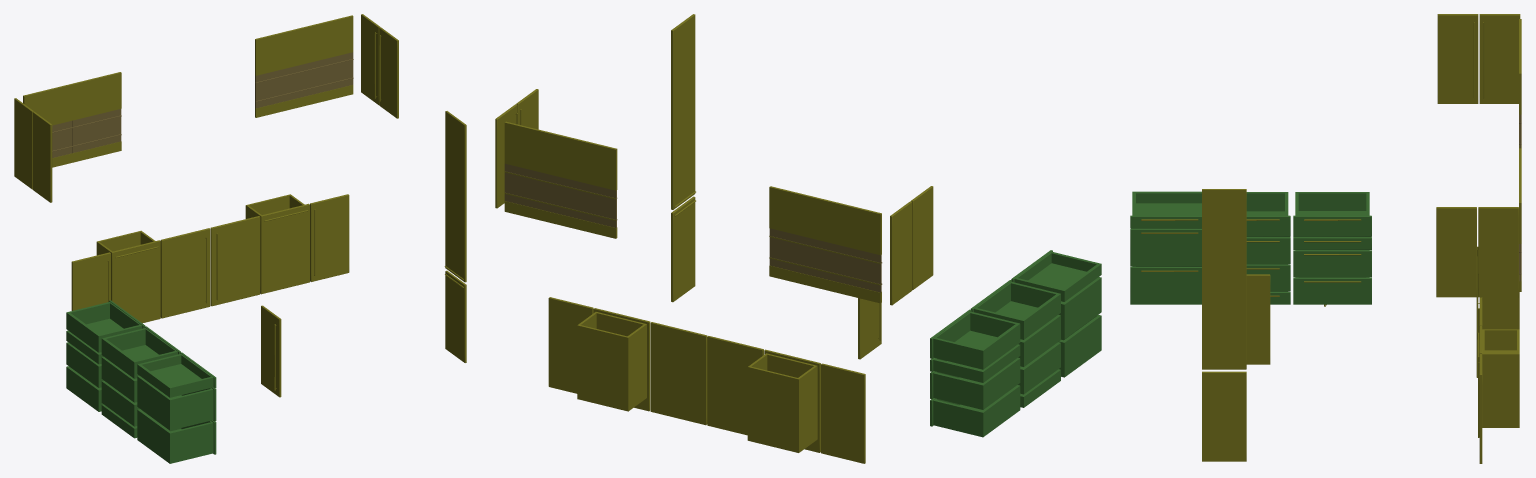
File: FloorPlan2.fbx
The picture shows the model from 3 angles, left to right: view 1: azimuth 30°, elevation 25°; view 2: azimuth 150°, elevation 25°; view 3: azimuth 270°, elevation 25°; orthographic projection. The views are drawn at different scales.
Visible parts, largest first — view 1: Drawer (3), Drawer (4), CabinetDoorBase1, CabinetDoorBase1 (11), CabinetDoorBase1 (2), CabinetDoorBase1 (10) (2), CabinetDoorBase1 (10), Drawer (2), CabinetDoorBase1 (6), DrawerBase2 (2), DrawerBase2, CabinetDoorBase1 (9) (+14 smaller); view 2: Drawer (3), Drawer (4), CabinetDoorBase1 (2), CabinetDoorBase1 (11), CabinetDoorBase1 (9), CabinetDoorBase1 (10) (2), CabinetDoorBase1 (10), Drawer (2), CabinetDoorBase1 (5), CabinetDoorBase1, DrawerBase2 (9), CabinetDoorBase1 (6) (+15 smaller); view 3: Drawer (2), Drawer, Drawer (3), CabinetDoorBase1 (7) (3), CabinetDoorBase1 (7) (2) (2), CabinetDoorBase1 (7), CabinetDoorBase1 (7) (2), DrawerBase2 (9), DrawerBase2, DrawerBase2 (2), DrawerBase2 (3), CabinetDoorBase1 (8) (+8 smaller).
Part boxes in pixels (left/top/right/bottom): Drawer (3): left=245, top=194, right=309, bottom=294; Drawer (4): left=96, top=230, right=160, bottom=323; CabinetDoorBase1: left=160, top=228, right=210, bottom=318; CabinetDoorBase1 (11): left=255, top=27, right=304, bottom=117; CabinetDoorBase1 (2): left=210, top=216, right=260, bottom=306; CabinetDoorBase1 (10) (2): left=304, top=15, right=353, bottom=105; CabinetDoorBase1 (10): left=72, top=72, right=121, bottom=162; Drawer (2): left=445, top=111, right=466, bottom=282; CabinetDoorBase1 (6): left=310, top=194, right=349, bottom=281; DrawerBase2 (2): left=137, top=409, right=216, bottom=463; DrawerBase2: left=137, top=376, right=216, bottom=430; CabinetDoorBase1 (9): left=23, top=84, right=72, bottom=167; Drawer (3): left=577, top=308, right=650, bottom=411; Drawer (4): left=747, top=349, right=820, bottom=452; CabinetDoorBase1 (2): left=650, top=322, right=707, bottom=425; CabinetDoorBase1 (11): left=560, top=135, right=617, bottom=238; CabinetDoorBase1 (9): left=825, top=200, right=882, bottom=303; CabinetDoorBase1 (10) (2): left=504, top=121, right=561, bottom=224; CabinetDoorBase1 (10): left=769, top=186, right=825, bottom=289; Drawer (2): left=671, top=14, right=695, bottom=209; CabinetDoorBase1 (5): left=821, top=363, right=865, bottom=463; CabinetDoorBase1: left=707, top=336, right=763, bottom=435; DrawerBase2 (9): left=930, top=309, right=1020, bottom=369; CabinetDoorBase1 (6): left=548, top=297, right=593, bottom=393; Drawer (2): left=1202, top=189, right=1246, bottom=369; Drawer: left=1202, top=371, right=1246, bottom=461; Drawer (3): left=1479, top=325, right=1519, bottom=427; CabinetDoorBase1 (7) (3): left=1436, top=207, right=1476, bottom=297; CabinetDoorBase1 (7) (2) (2): left=1478, top=207, right=1518, bottom=297; CabinetDoorBase1 (7): left=1437, top=14, right=1478, bottom=103; CabinetDoorBase1 (7) (2): left=1479, top=14, right=1520, bottom=103; DrawerBase2 (9): left=1293, top=192, right=1371, bottom=236; DrawerBase2: left=1130, top=228, right=1201, bottom=266; DrawerBase2 (2): left=1130, top=266, right=1201, bottom=304; DrawerBase2 (3): left=1130, top=191, right=1201, bottom=228; CabinetDoorBase1 (8): left=1246, top=274, right=1270, bottom=364.
Size of the model in its own units: 364 by 244 by 298.
